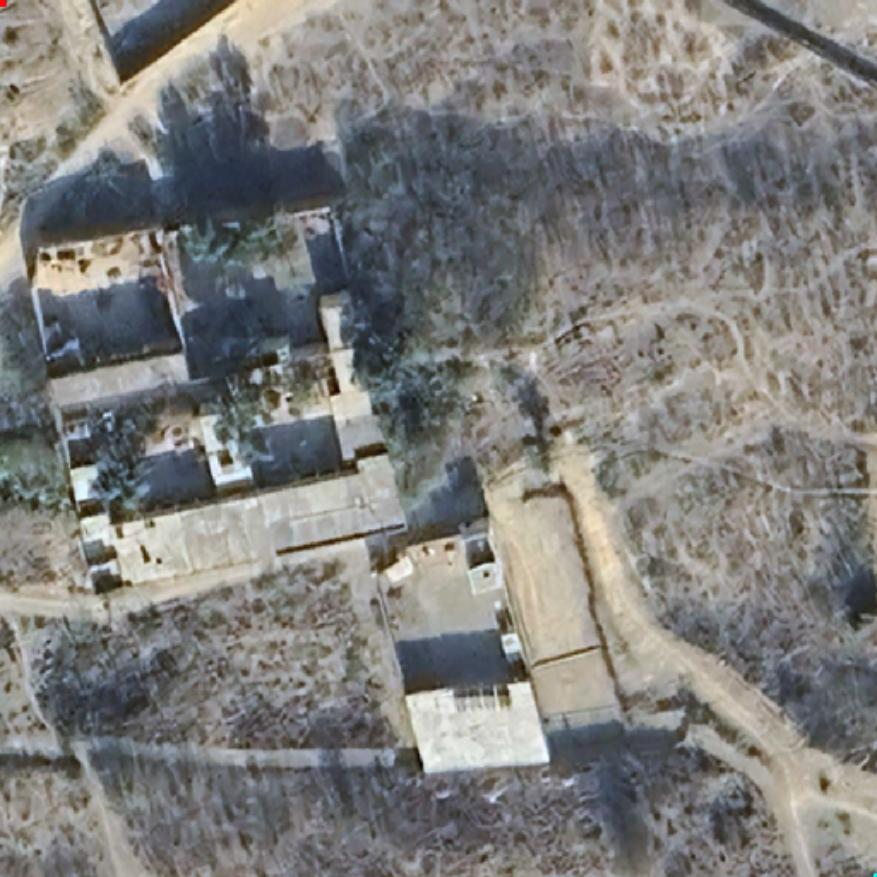Solarpanel: (453, 688, 511, 712)
